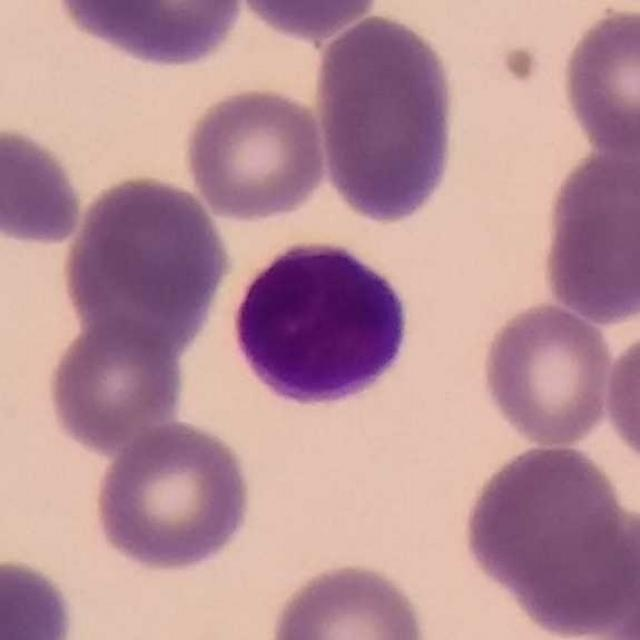Lymphocyte: (224, 232, 418, 415)
Platelets: (499, 45, 543, 92)
RBC: (458, 440, 636, 633), (310, 9, 462, 227), (58, 168, 234, 344), (89, 418, 256, 576), (180, 82, 331, 225), (478, 298, 618, 450), (42, 314, 188, 456), (538, 141, 640, 327), (49, 0, 248, 71), (265, 557, 433, 640), (556, 2, 640, 159), (555, 502, 639, 640), (0, 119, 87, 251), (0, 553, 79, 640), (230, 0, 386, 40), (601, 322, 640, 474)
